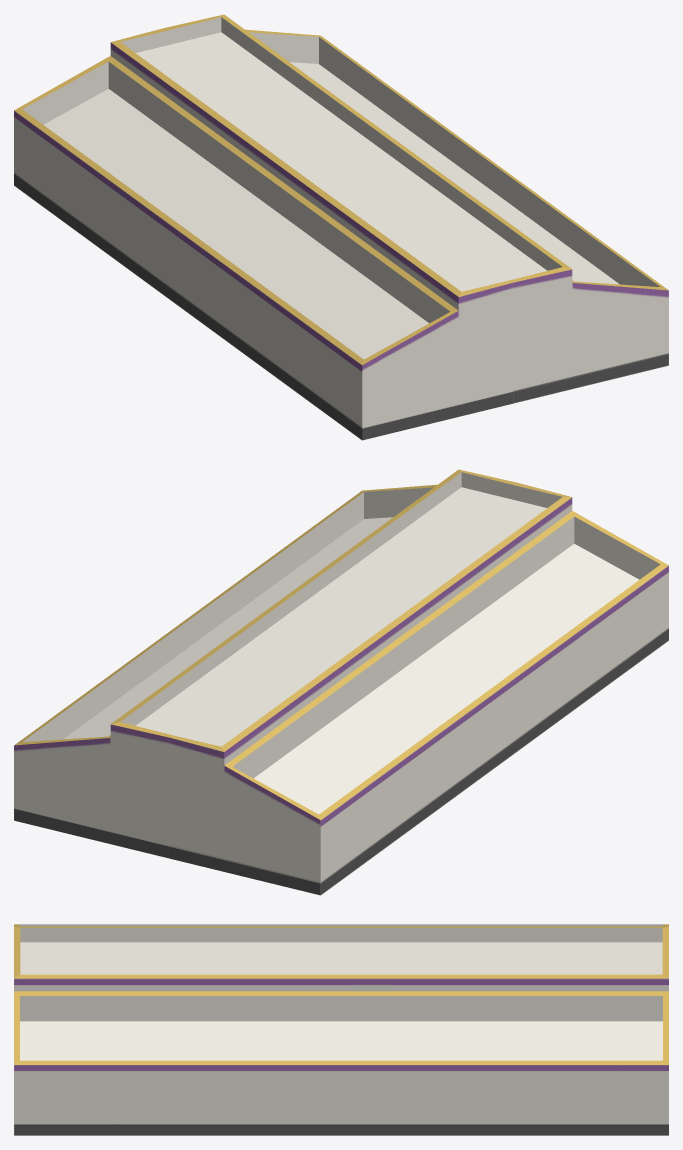
Rendered from Shelf4.fbx.
3 renders of one model, top to bottom at view 1: azimuth 30°, elevation 25°; view 2: azimuth 150°, elevation 25°; view 3: azimuth 270°, elevation 25°, orthographic. The views are drawn at different scales.
Visible parts, largest first — view 1: pCube16; view 2: pCube16; view 3: pCube16.
Boxes of the visible parts, x1,y1,x2,y2 form: pCube16: (14,14,668,440); pCube16: (14,469,668,895); pCube16: (14,924,668,1135).
Bounding box in the file's own units: 106 × 39.86 × 208.
Materials: 1 (1 with a texture image).
